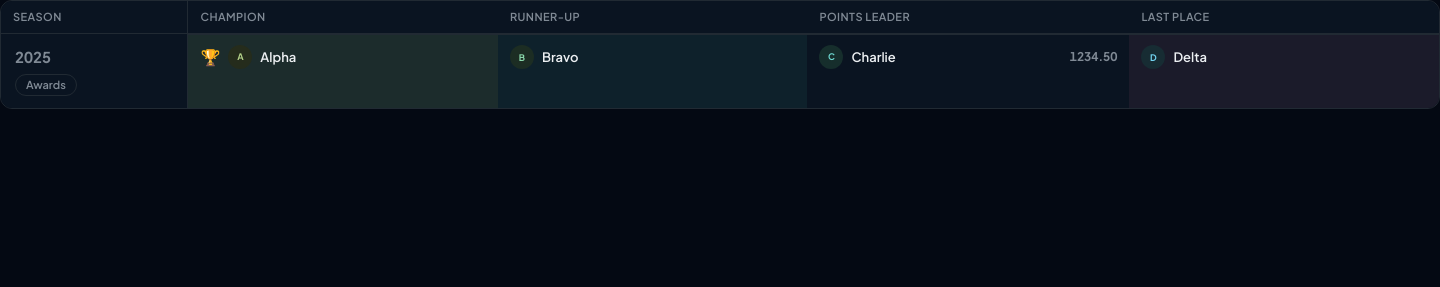
Test case: past award winners (US4) › shows an available Trending Tony in a past season
Click the button "Awards".
click(46, 85)  # box [15,74,77,96]
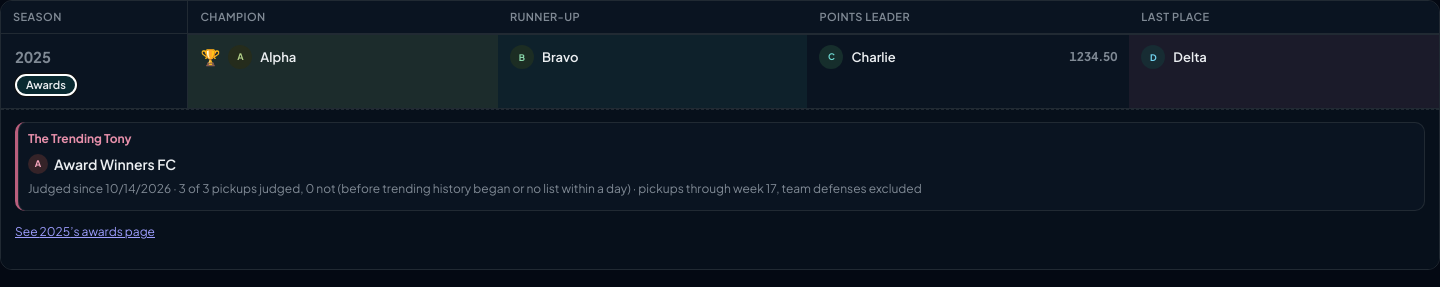
Now the heading "The Trending Tony" is shown, box [28,131,132,146]
